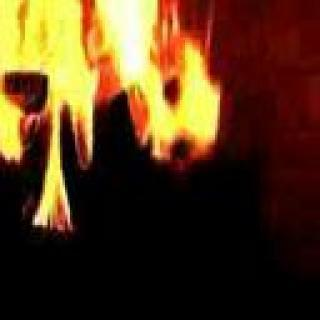fire: (0, 0, 139, 112)
